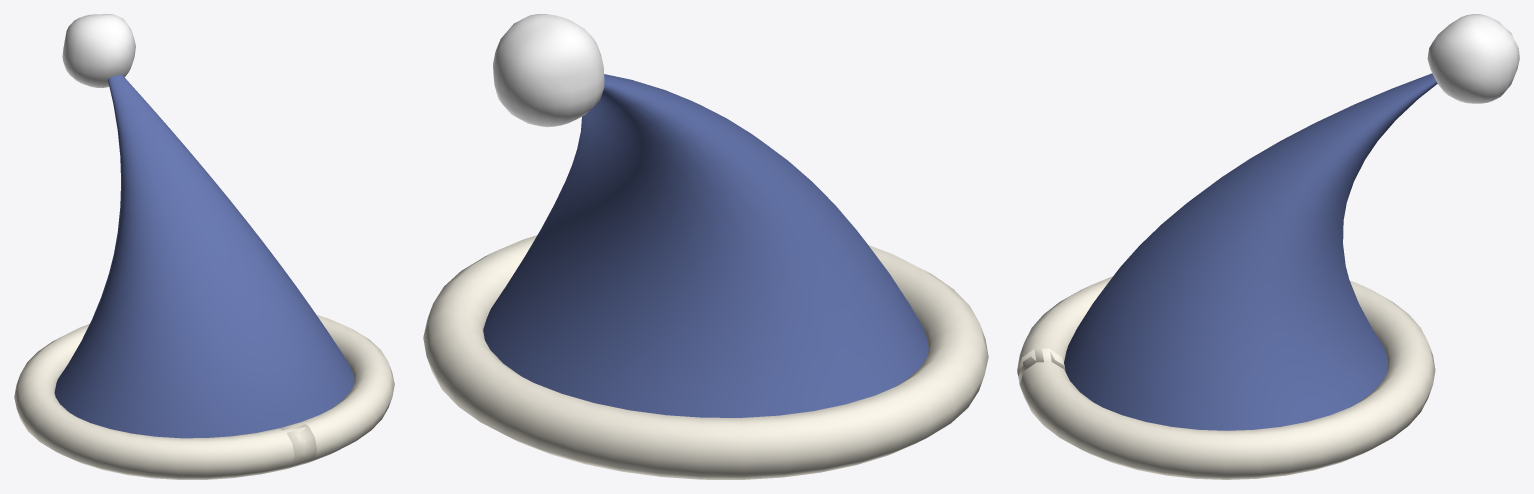
The model's file is NightCap.fbx.
3 renders of one model, left to right at view 1: azimuth 30°, elevation 25°; view 2: azimuth 150°, elevation 25°; view 3: azimuth 270°, elevation 25°, orthographic. The views are drawn at different scales.
Parts seen in each view (by area): view 1: NightCap; view 2: NightCap; view 3: NightCap.
Boxes of the visible parts, x1,y1,x2,y2 form: NightCap: [14, 14, 394, 479]; NightCap: [423, 14, 988, 479]; NightCap: [1017, 14, 1519, 479].
Size of the model in its own units: 0.6091 by 0.5466 by 0.6703.
